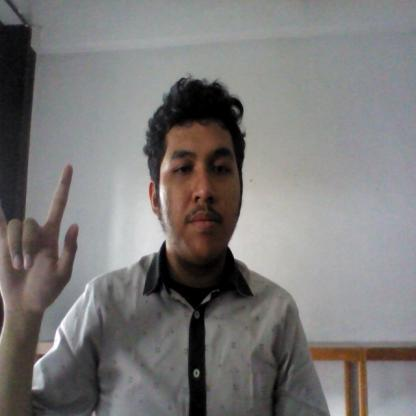ILoveYou: (0, 151, 84, 333)
